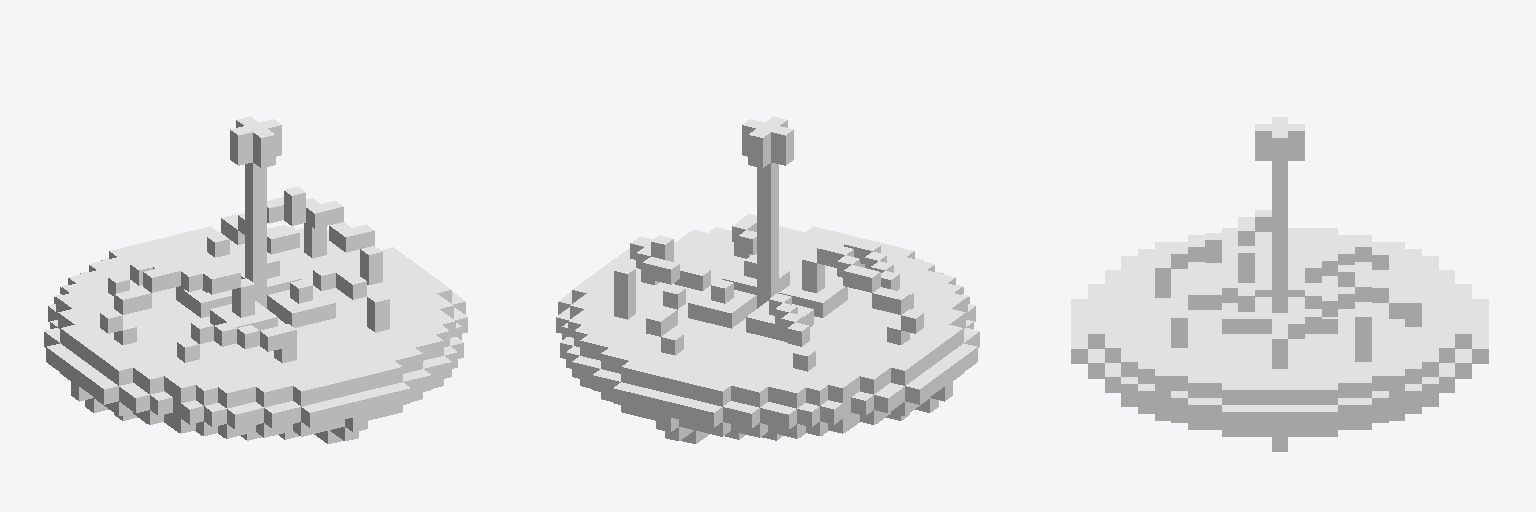
The model's file is Enemy-12.obj.
The picture shows the model from 3 angles: view 1: azimuth 30°, elevation 25°; view 2: azimuth 150°, elevation 25°; view 3: azimuth 270°, elevation 25°; orthographic projection.
Visible parts, largest first — view 1: object 1; view 2: object 1; view 3: object 1.
Part boxes in pixels (x1,y1,x2,y2): object 1: (44, 116, 467, 443); object 1: (556, 116, 979, 443); object 1: (1071, 117, 1488, 451).
Bounding box in the file's own units: 2.5 × 1.7 × 2.5.